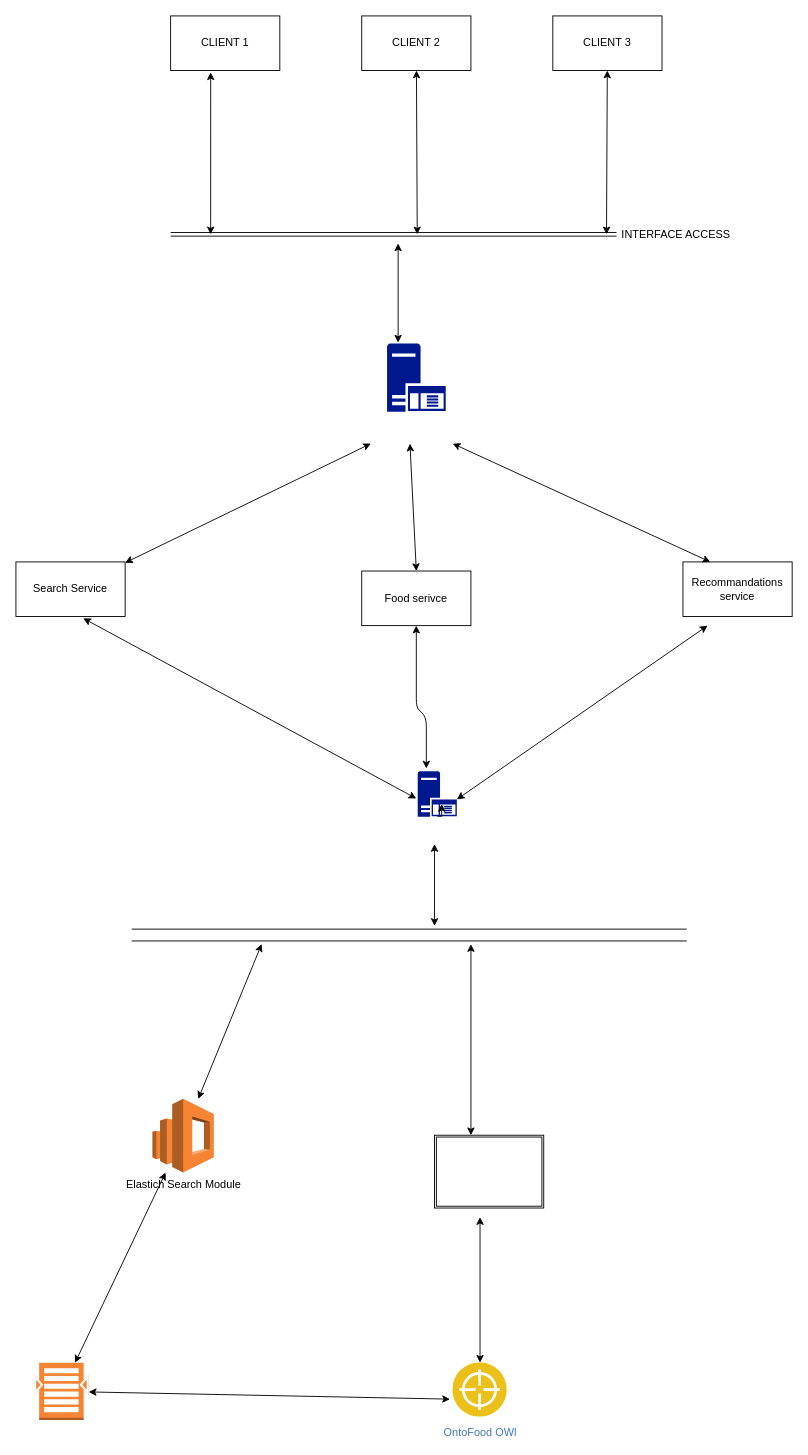
Some shapes in this 808 by 1455 pixel diagram are drawn without their labels. Each missing label, with the centre of its shape:
AllegroServer: the point at 436,793
Application Server: the point at 416,377
Documents: the point at 61,1391
OntoBase Service (stockage): the point at 489,1171
